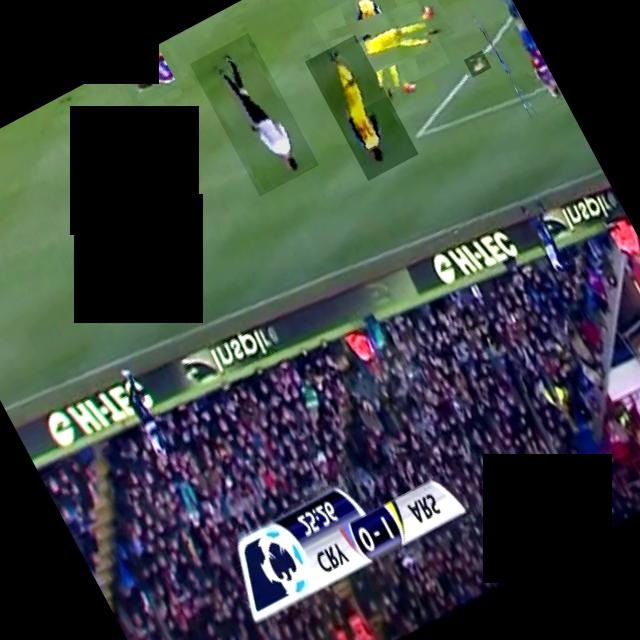ball: (464, 49, 492, 77)
referee: (189, 32, 319, 196)
soccer-player: (304, 34, 418, 180), (312, 0, 450, 109), (464, 0, 567, 124), (114, 42, 185, 110)
